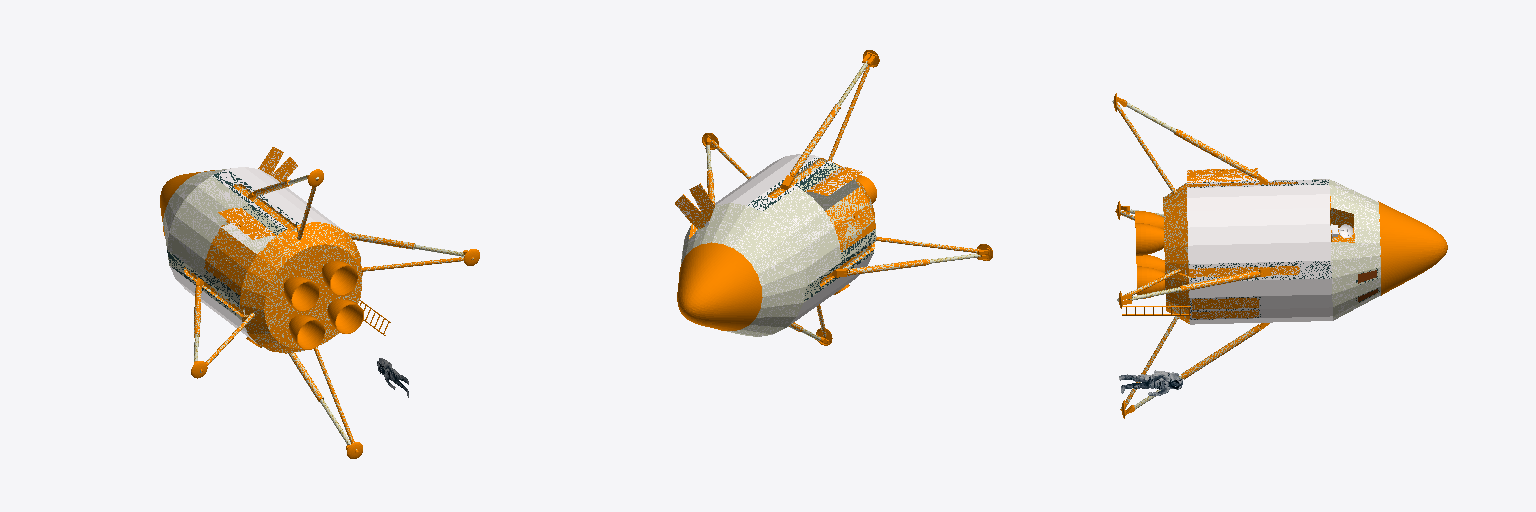
3 renders of one model, left to right at view 1: azimuth 30°, elevation 25°; view 2: azimuth 150°, elevation 25°; view 3: azimuth 270°, elevation 25°, orthographic.
Parts seen in each view (by area): view 1: mesh47_mesh47-geometry, mesh38_mesh38-geometry, mesh37_mesh37-geometry, mesh36_mesh36-geometry, mesh39_mesh39-geometry, mesh40_mesh40-geometry, mesh41_mesh41-geometry, mesh35_mesh35-geometry, mesh17_mesh17-geometry; view 2: mesh47_mesh47-geometry, mesh15_mesh15-geometry, mesh33_mesh33-geometry, mesh16_mesh16-geometry, mesh41_mesh41-geometry, mesh40_mesh40-geometry; view 3: mesh47_mesh47-geometry, mesh15_mesh15-geometry, mesh48_mesh48-geometry, mesh33_mesh33-geometry, mesh40_mesh40-geometry, mesh37_mesh37-geometry, mesh35_mesh35-geometry, mesh17_mesh17-geometry, mesh36_mesh36-geometry.
Part boxes in pixels (left/top/right/bottom): mesh47_mesh47-geometry: left=163, top=167, right=473, bottom=452; mesh38_mesh38-geometry: left=283, top=277, right=319, bottom=311; mesh37_mesh37-geometry: left=322, top=261, right=357, bottom=295; mesh36_mesh36-geometry: left=327, top=299, right=363, bottom=333; mesh39_mesh39-geometry: left=289, top=315, right=324, bottom=349; mesh40_mesh40-geometry: left=218, top=208, right=276, bottom=239; mesh41_mesh41-geometry: left=258, top=147, right=297, bottom=181; mesh35_mesh35-geometry: left=346, top=232, right=464, bottom=256; mesh17_mesh17-geometry: left=288, top=352, right=350, bottom=444; mesh47_mesh47-geometry: left=681, top=57, right=980, bottom=337; mesh15_mesh15-geometry: left=677, top=242, right=762, bottom=330; mesh33_mesh33-geometry: left=790, top=61, right=867, bottom=176; mesh16_mesh16-geometry: left=844, top=253, right=980, bottom=275; mesh41_mesh41-geometry: left=675, top=183, right=714, bottom=222; mesh40_mesh40-geometry: left=805, top=167, right=862, bottom=195; mesh47_mesh47-geometry: left=1112, top=100, right=1397, bottom=410; mesh15_mesh15-geometry: left=1378, top=201, right=1447, bottom=295; mesh48_mesh48-geometry: left=1119, top=370, right=1182, bottom=395; mesh33_mesh33-geometry: left=1125, top=101, right=1258, bottom=178; mesh40_mesh40-geometry: left=1187, top=168, right=1257, bottom=182; mesh37_mesh37-geometry: left=1135, top=223, right=1163, bottom=255; mesh35_mesh35-geometry: left=1128, top=271, right=1263, bottom=300; mesh17_mesh17-geometry: left=1134, top=323, right=1262, bottom=409; mesh36_mesh36-geometry: left=1137, top=266, right=1164, bottom=298.
Size of the model in its own units: 0.5775 by 0.5764 by 0.5782.
Materials: 7 (2 with a texture image).